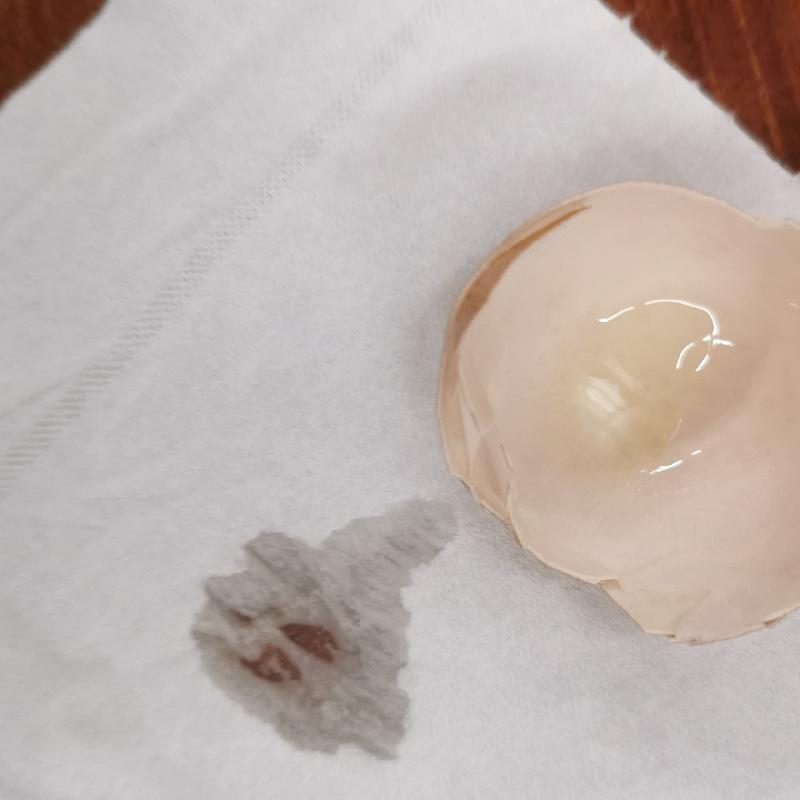eggshell: (436, 176, 800, 656)
